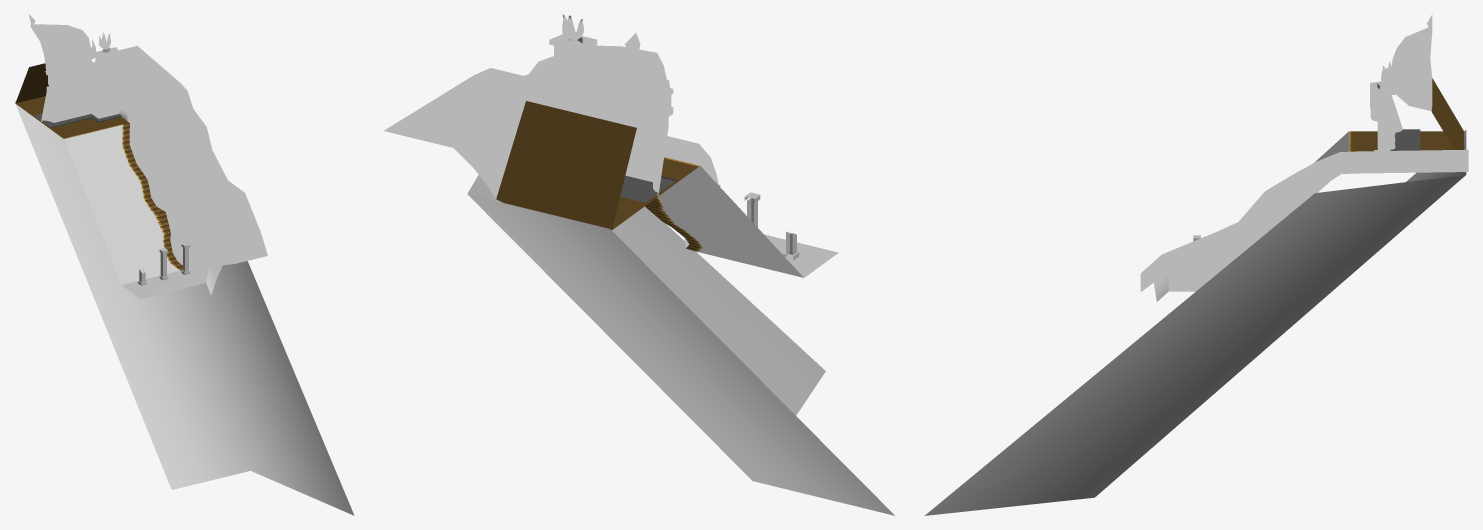
File: leagin02_01_00.obj
3 views of the same model, side by side, from view 1: azimuth 30°, elevation 25°; view 2: azimuth 150°, elevation 25°; view 3: azimuth 270°, elevation 25° (orthographic). The views are drawn at different scales.
Visible parts, largest first — view 1: pk_l_iwa6_1_lay0_QUADS_VisGroup0, pk_l_iwa7_1_lay0_QUADS_VisGroup0, out32_u_k2_1_lay0_QUADS_VisGroup0, pk_l_iwa6_1_lay0_TRIS_VisGroup0, out32_u_kaida_3_lay0_QUADS_VisGroup0, pk_l_yane_1_lay0_QUADS_VisGroup0, pk_l_le2_3_lay0_QUADS_VisGroup0, out32_u_k4_1_lay0_QUADS_VisGroup0, pk_l_mado4_3_lay0_TRIS_VisGroup0, out32_u_k2_1_lay0_TRIS_VisGroup0, out32_u_kaida_3_lay0_TRIS_VisGroup0, pk_l_kabe_3_lay0_QUADS_VisGroup0 (+5 smaller); view 2: pk_l_iwa6_1_lay0_QUADS_VisGroup0, out32_u_kaida_3_lay0_QUADS_VisGroup0, pk_l_iwa7_1_lay0_QUADS_VisGroup0, out32_u_k2_1_lay0_QUADS_VisGroup0, out32_u_kaida_3_lay0_TRIS_VisGroup0, pk_l_yane_1_lay0_QUADS_VisGroup0, pk_l_le2_3_lay0_QUADS_VisGroup0, pk_l_mado3_3_lay0_QUADS_VisGroup0, pk_l_mado4_3_lay0_TRIS_VisGroup0, out32_u_k4_1_lay0_QUADS_VisGroup0, h_kage_3_lay0_QUADS_VisGroup0; view 3: pk_l_iwa6_1_lay0_QUADS_VisGroup0, pk_l_iwa7_1_lay0_QUADS_VisGroup0, pk_l_yane_1_lay0_QUADS_VisGroup0, out32_u_kaida_3_lay0_QUADS_VisGroup0, pk_l_iwa6_1_lay0_TRIS_VisGroup0, pk_l_le2_3_lay0_QUADS_VisGroup0, pk_l_yane2_1_lay0_QUADS_VisGroup0, pk_l_kabe_3_lay0_QUADS_VisGroup0.
Boxes of the visible parts, left/top/right/bottom form: pk_l_iwa6_1_lay0_QUADS_VisGroup0: left=14, top=62, right=354, bottom=515; pk_l_iwa7_1_lay0_QUADS_VisGroup0: left=117, top=46, right=267, bottom=263; out32_u_k2_1_lay0_QUADS_VisGroup0: left=64, top=125, right=179, bottom=284; pk_l_iwa6_1_lay0_TRIS_VisGroup0: left=125, top=111, right=234, bottom=265; out32_u_kaida_3_lay0_QUADS_VisGroup0: left=15, top=63, right=182, bottom=270; pk_l_yane_1_lay0_QUADS_VisGroup0: left=30, top=22, right=90, bottom=75; pk_l_le2_3_lay0_QUADS_VisGroup0: left=45, top=47, right=120, bottom=88; out32_u_k4_1_lay0_QUADS_VisGroup0: left=122, top=271, right=196, bottom=298; pk_l_mado4_3_lay0_TRIS_VisGroup0: left=41, top=82, right=91, bottom=122; out32_u_k2_1_lay0_TRIS_VisGroup0: left=64, top=138, right=178, bottom=270; out32_u_kaida_3_lay0_TRIS_VisGroup0: left=15, top=67, right=129, bottom=145; pk_l_kabe_3_lay0_QUADS_VisGroup0: left=95, top=62, right=119, bottom=112; pk_l_iwa6_1_lay0_QUADS_VisGroup0: left=454, top=85, right=894, bottom=515; out32_u_kaida_3_lay0_QUADS_VisGroup0: left=496, top=101, right=702, bottom=251; pk_l_iwa7_1_lay0_QUADS_VisGroup0: left=384, top=68, right=689, bottom=147; out32_u_k2_1_lay0_QUADS_VisGroup0: left=657, top=169, right=803, bottom=277; out32_u_kaida_3_lay0_TRIS_VisGroup0: left=509, top=128, right=636, bottom=230; pk_l_yane_1_lay0_QUADS_VisGroup0: left=523, top=43, right=667, bottom=97; pk_l_le2_3_lay0_QUADS_VisGroup0: left=549, top=34, right=673, bottom=116; pk_l_mado3_3_lay0_QUADS_VisGroup0: left=580, top=95, right=668, bottom=182; pk_l_mado4_3_lay0_TRIS_VisGroup0: left=586, top=109, right=668, bottom=195; out32_u_k4_1_lay0_QUADS_VisGroup0: left=764, top=234, right=838, bottom=277; h_kage_3_lay0_QUADS_VisGroup0: left=620, top=175, right=676, bottom=202; pk_l_iwa6_1_lay0_QUADS_VisGroup0: left=924, top=130, right=1466, bottom=515; pk_l_iwa7_1_lay0_QUADS_VisGroup0: left=1140, top=149, right=1468, bottom=291; pk_l_yane_1_lay0_QUADS_VisGroup0: left=1391, top=26, right=1432, bottom=106; out32_u_kaida_3_lay0_QUADS_VisGroup0: left=1349, top=79, right=1458, bottom=151; pk_l_iwa6_1_lay0_TRIS_VisGroup0: left=1213, top=174, right=1340, bottom=276; pk_l_le2_3_lay0_QUADS_VisGroup0: left=1370, top=68, right=1394, bottom=121; pk_l_yane2_1_lay0_QUADS_VisGroup0: left=1388, top=61, right=1431, bottom=110; pk_l_kabe_3_lay0_QUADS_VisGroup0: left=1370, top=96, right=1390, bottom=150.
Bounding box in the file's own units: 362 × 1029 × 1159.
